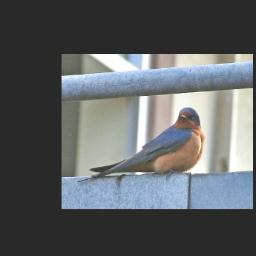Swallow: (77, 107, 205, 183)
